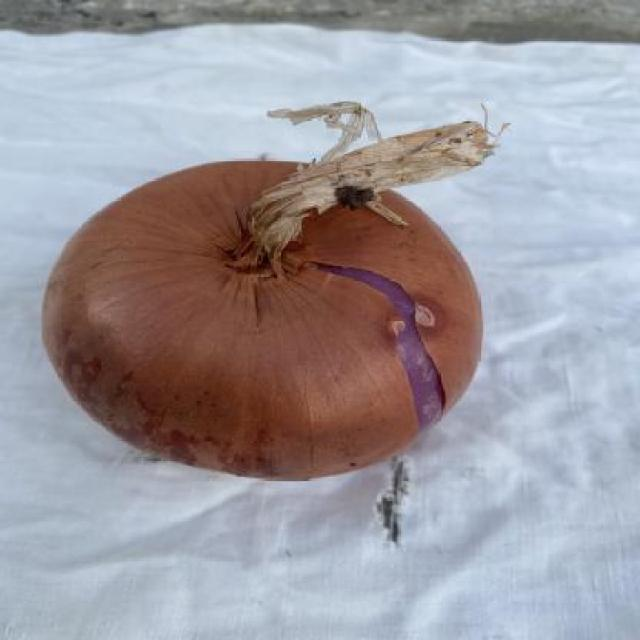Onion: (43, 102, 505, 479)
